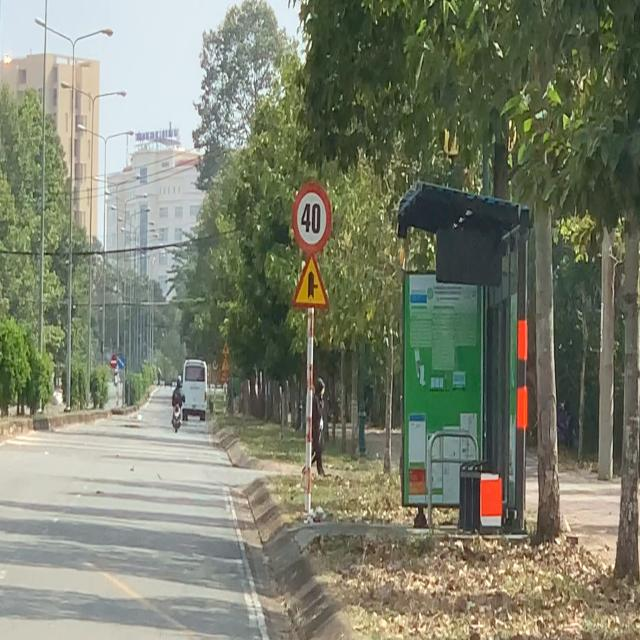Cam nguoc chieu: (110, 354, 117, 369)
Giao voi duong khong uu tien: (291, 252, 331, 312)
Hieu lenh: (118, 355, 124, 368)
Toc do toi da: (292, 182, 332, 252)
